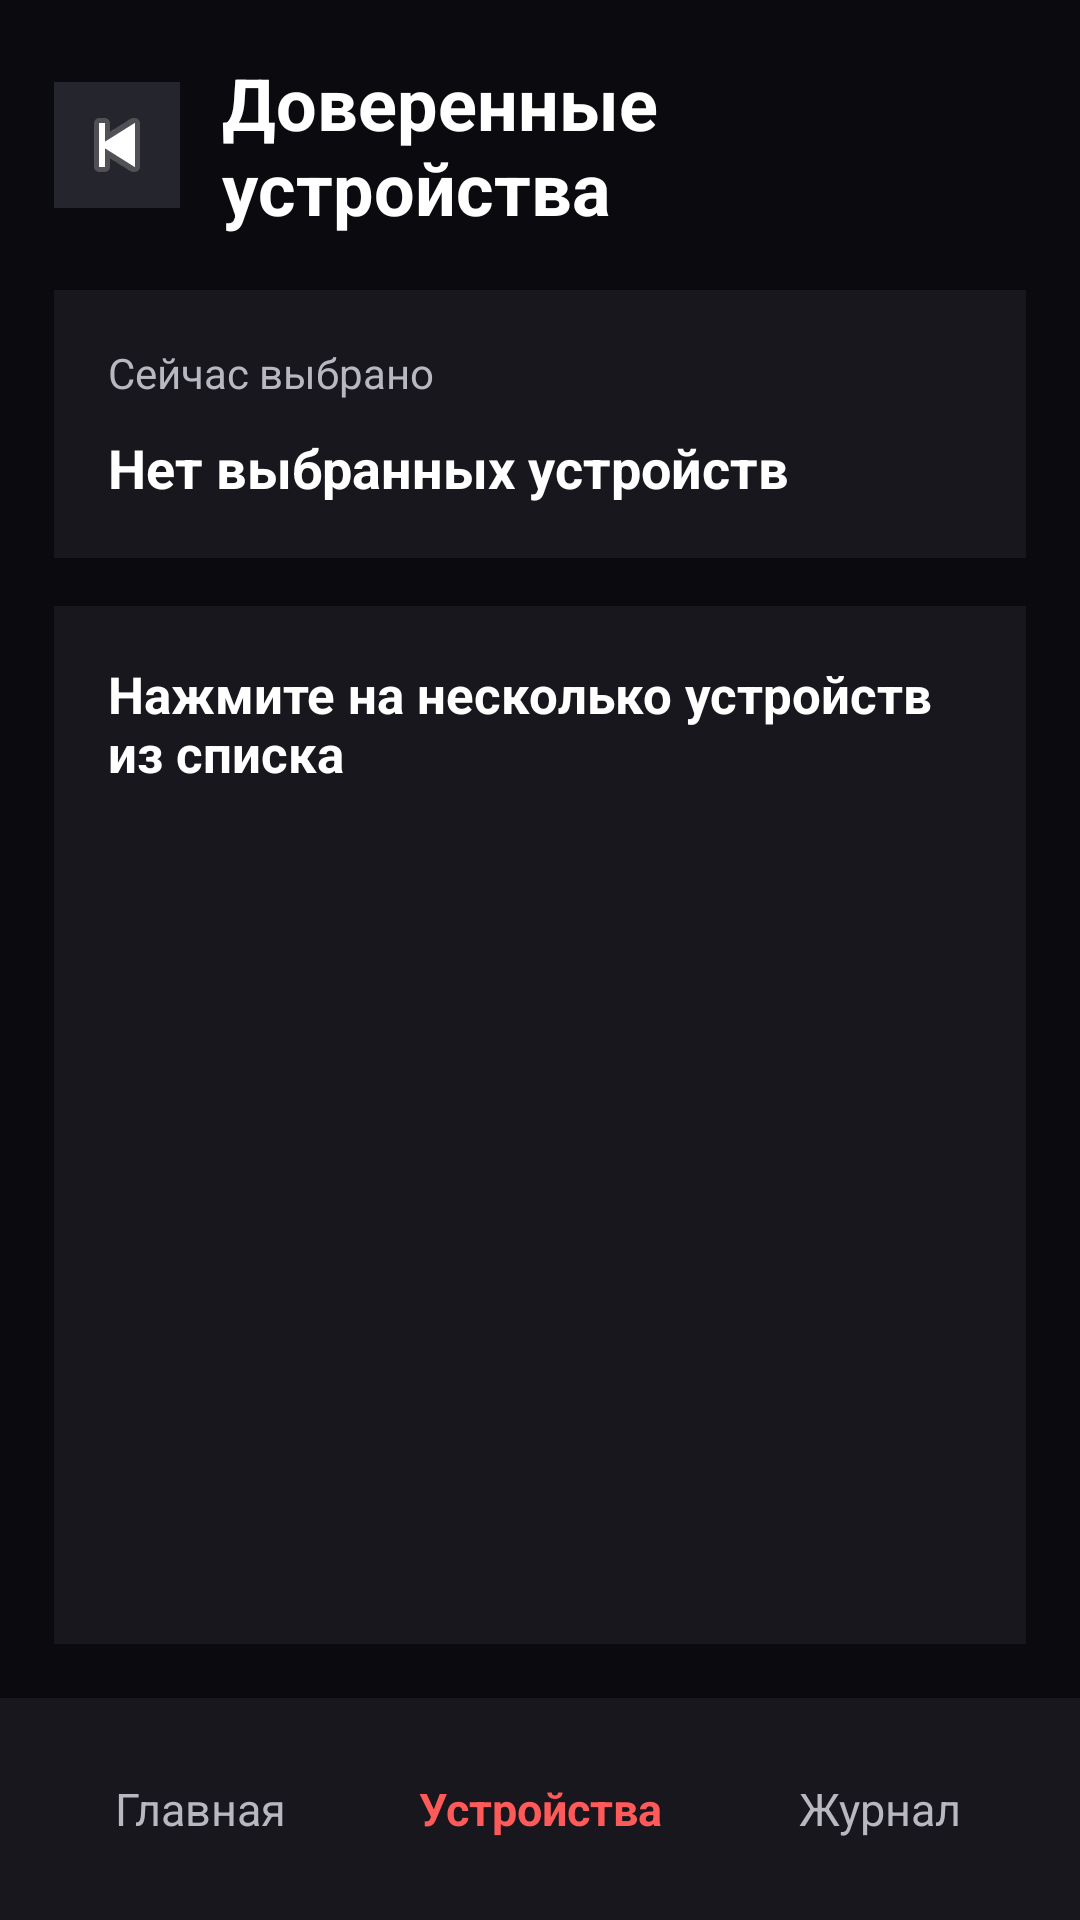

Icons on this 1080px×1920px Android screen, each with its box as (x1,y1,x2,y2):
Назад: (54,82,180,208)
